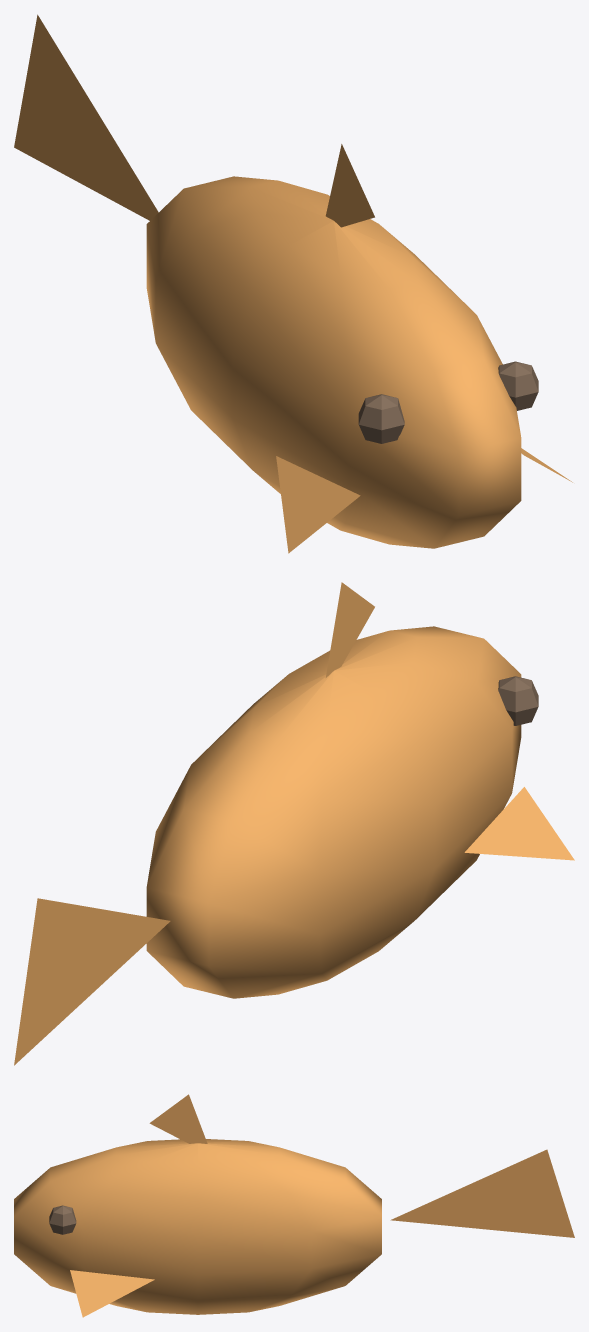
File: critter_koi.glb
The picture shows the model from 3 angles, top to bottom: view 1: azimuth 30°, elevation 25°; view 2: azimuth 150°, elevation 25°; view 3: azimuth 270°, elevation 25°; orthographic projection. The views are drawn at different scales.
Parts seen in each view (by area): view 1: Koi_Body, Koi_Tail, Koi_FinL, Koi_Dorsal, Koi_EyeL, Koi_EyeR; view 2: Koi_Body, Koi_Tail, Koi_FinL, Koi_Dorsal, Koi_EyeL; view 3: Koi_Body, Koi_Tail, Koi_FinR, Koi_Dorsal, Koi_EyeR.
Part boxes in pixels (left/top/right/bottom): Koi_Body: left=146, top=176, right=521, bottom=548; Koi_Tail: left=14, top=14, right=158, bottom=220; Koi_FinL: left=276, top=456, right=360, bottom=553; Koi_Dorsal: left=325, top=144, right=374, bottom=227; Koi_EyeL: left=358, top=394, right=404, bottom=443; Koi_EyeR: left=498, top=361, right=538, bottom=410; Koi_Body: left=146, top=626, right=521, bottom=998; Koi_Tail: left=14, top=898, right=170, bottom=1065; Koi_FinL: left=464, top=787, right=574, bottom=860; Koi_Dorsal: left=325, top=582, right=374, bottom=677; Koi_EyeL: left=498, top=676, right=538, bottom=725; Koi_Body: left=14, top=1139, right=381, bottom=1314; Koi_Tail: left=390, top=1149, right=574, bottom=1237; Koi_FinR: left=70, top=1270, right=154, bottom=1317; Koi_Dorsal: left=149, top=1094, right=207, bottom=1143; Koi_EyeR: left=49, top=1205, right=76, bottom=1234.
Size of the model in its own units: 0.137 by 0.1675 by 0.3943.
